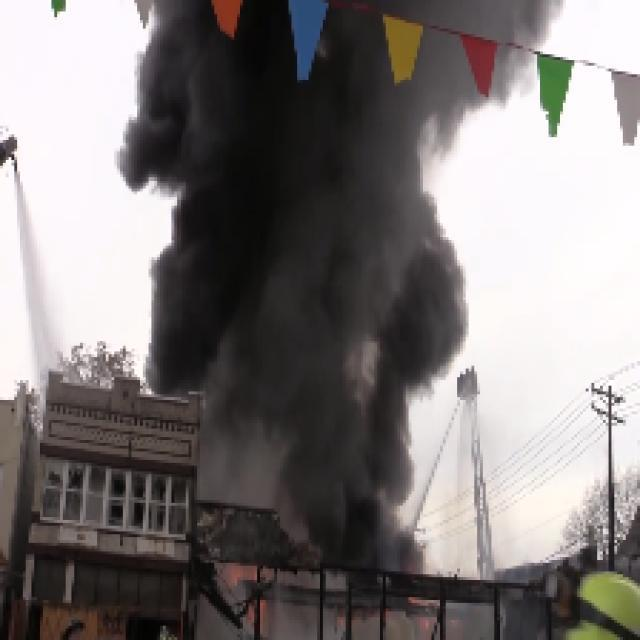Smoke: (140, 83, 460, 383), (208, 394, 420, 502)
